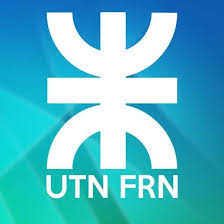utn: (43, 9, 177, 173)
